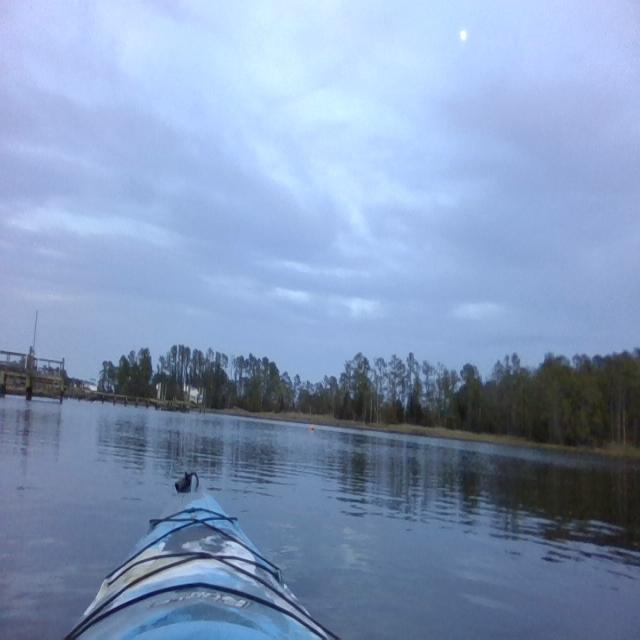Buoy: (309, 422, 316, 432)
